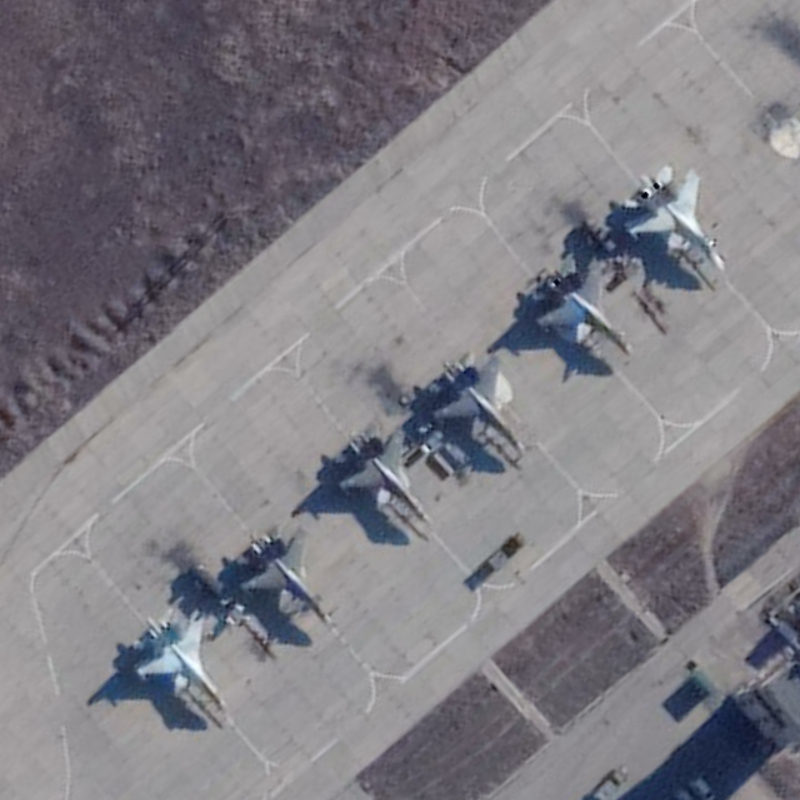A1: (426, 349, 532, 462), (621, 164, 728, 273), (533, 253, 637, 359), (238, 524, 335, 628), (336, 427, 435, 528), (133, 607, 227, 712)
